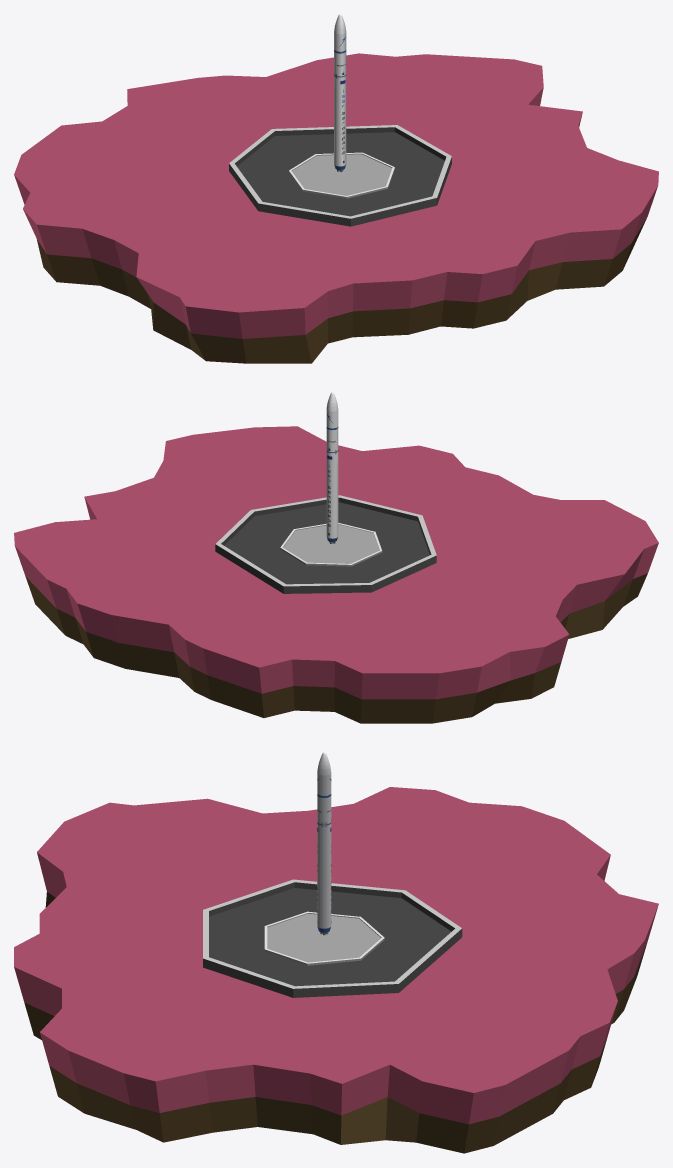
Rendered from spectrum.gltf.
3 renders of one model, top to bottom at view 1: azimuth 30°, elevation 25°; view 2: azimuth 150°, elevation 25°; view 3: azimuth 270°, elevation 25°, orthographic. The views are drawn at different scales.
Visible parts, largest first — view 1: Cylinder.003, Cylinder.004; view 2: Cylinder.003, Cylinder.004; view 3: Cylinder.003, Cylinder.004.
Boxes of the visible parts, x1=… form: Cylinder.003: x1=14, y1=53, x2=658, y2=363; Cylinder.004: x1=334, y1=14, x2=346, y2=172; Cylinder.003: x1=14, y1=426, x2=658, y2=723; Cylinder.004: x1=326, y1=392, x2=338, y2=543; Cylinder.003: x1=14, y1=787, x2=658, y2=1153; Cylinder.004: x1=317, y1=752, x2=331, y2=935.
Size of the model in its own units: 8.06 by 3.19 by 7.18.
Materials: 9 (1 with a texture image).
